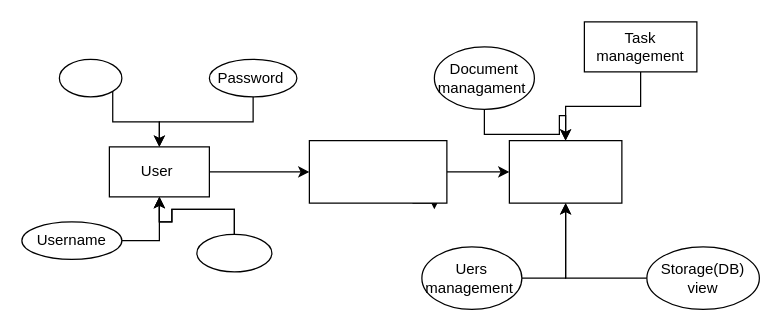
This 781x331 diagram has some shape labels left out. Here are the shapes that lost their labels. From the top down, the centre of each, then its label:
At point (90, 77): "User_id".
At point (377, 171): "User authication".
At point (565, 171): "Dashboard".
At point (234, 252): "Role".
